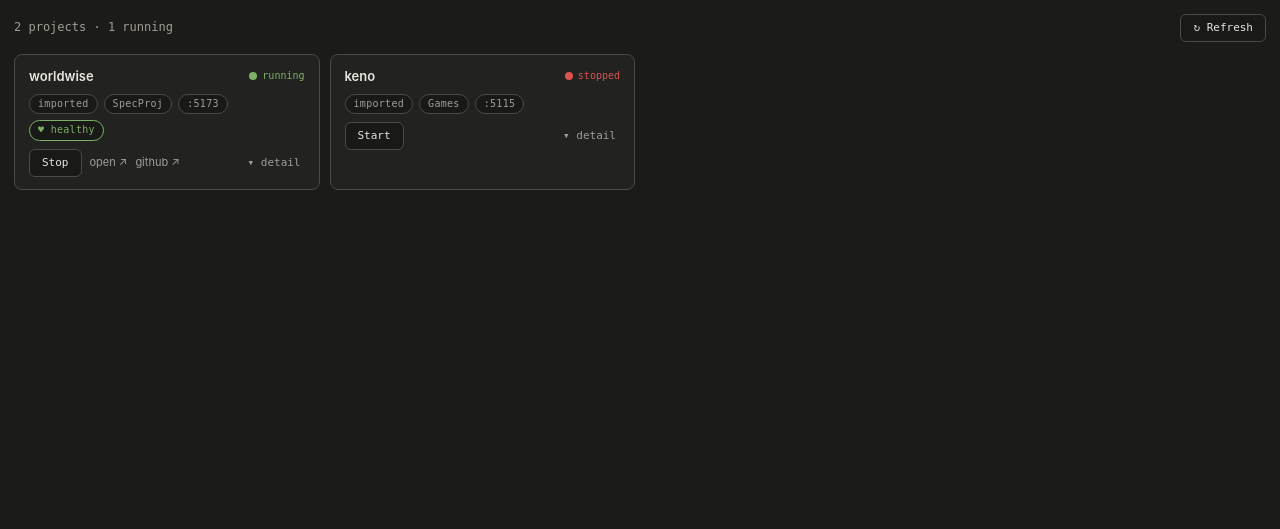
ProjectsView › expanding a card loads process detail and the launch plan
Expected: the element with test id "pv-card-worldwise" is shown, [14,54,320,190]
Click the button "▾ detail" next to "github ↗".
click(274, 163)  # box [244,153,304,173]
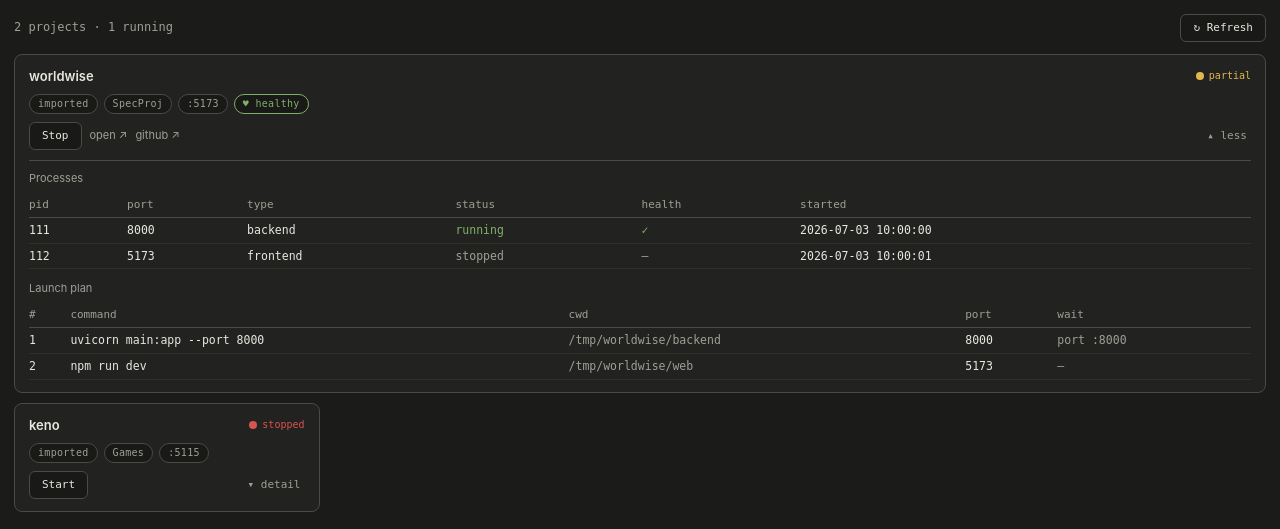
Expected: the table with test id "pv-procs-worldwise" is shown, [29,193,1251,270]
Expected: the table with test id "pv-plan-worldwise" is shown, [29,303,1251,380]
Expected: the text "uvicorn main:app --port 8000" is shown, [70,328,569,354]
